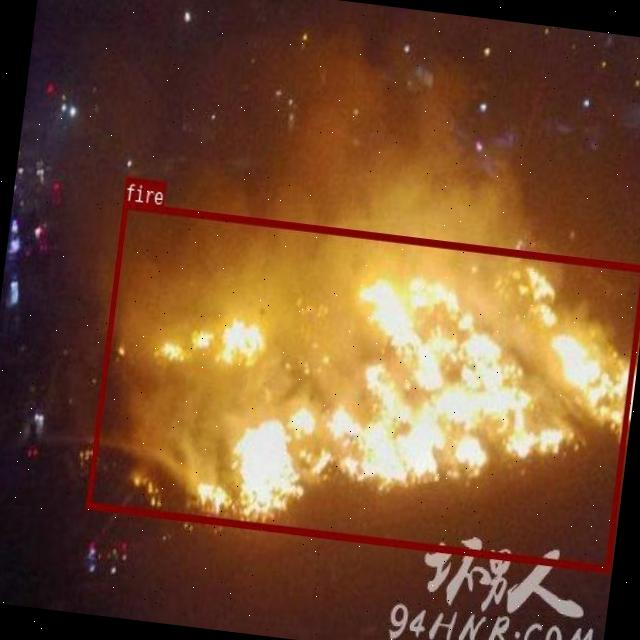fire: (84, 200, 640, 571)
